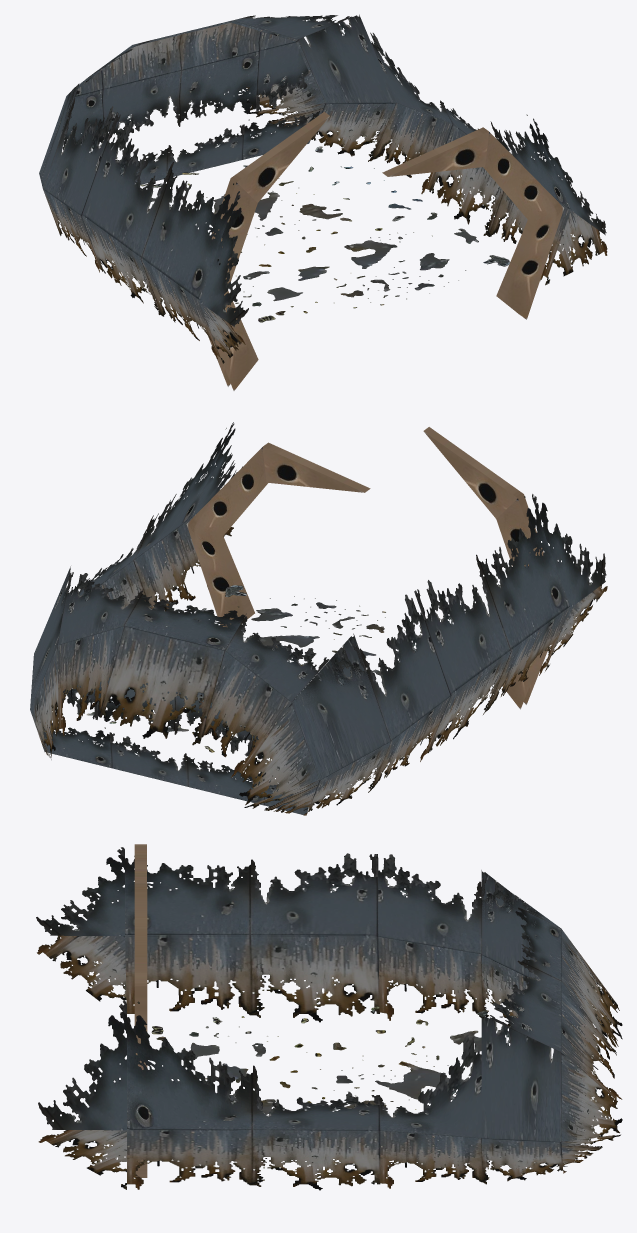
File: crashnose_dam_hdtex.glb
The picture shows the model from 3 angles, top to bottom: view 1: azimuth 30°, elevation 25°; view 2: azimuth 150°, elevation 25°; view 3: azimuth 270°, elevation 25°; orthographic projection. The views are drawn at different scales.
Parts seen in each view (by area): view 1: Crash Nose; view 2: Crash Nose; view 3: Crash Nose.
Part boxes in pixels (bbox=[...]): Crash Nose: bbox=[39, 14, 607, 390]; Crash Nose: bbox=[30, 422, 607, 815]; Crash Nose: bbox=[36, 844, 622, 1190].
Size of the model in its own units: 27.12 by 17.54 by 35.94.
3 materials, 3 textured.
